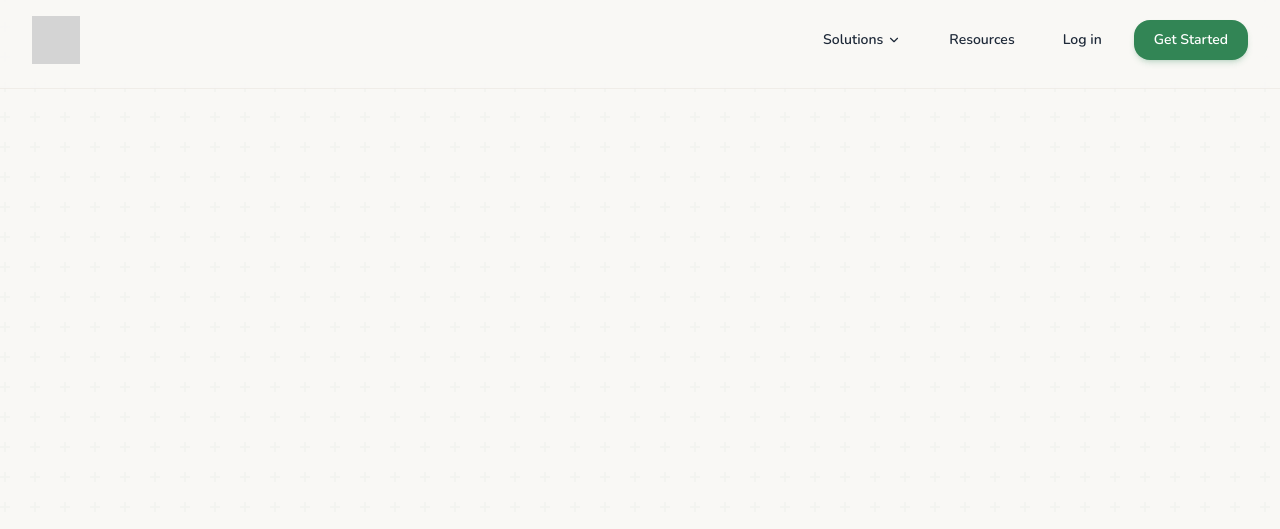
Navbar Solutions menu — keyboard accessibility › keeps mouse hover behavior working
Hover over the element showing "Solutions" at (862,40), box [823,30,901,49]
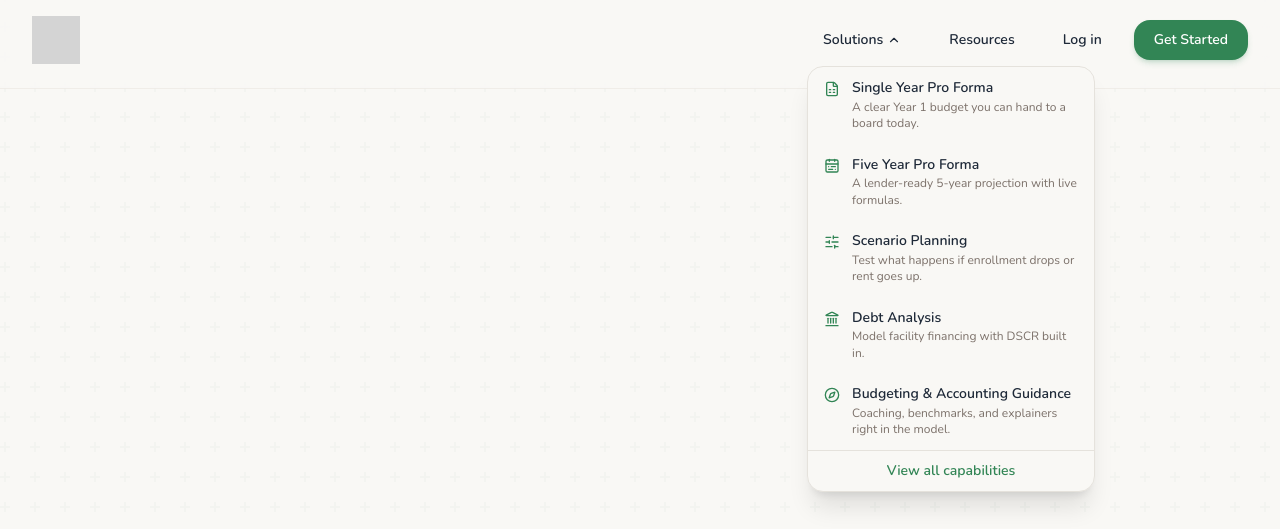
Expected: the menu is shown, [807,58,1095,492]
Move the pointer off the element that starts with "Solutions", box [823,30,901,49]
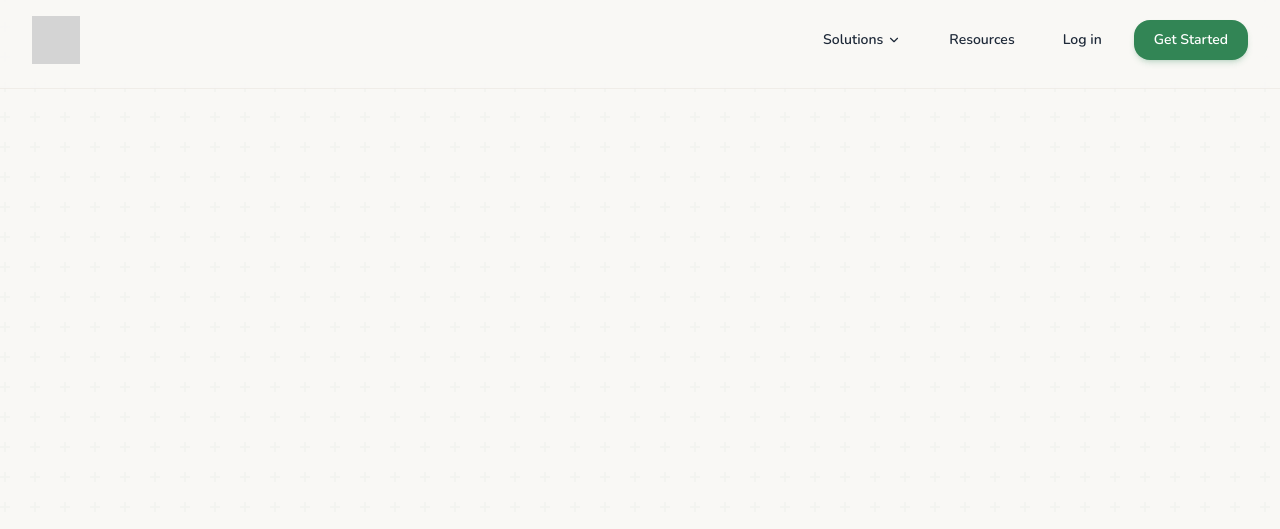
Expected: the menu is gone
